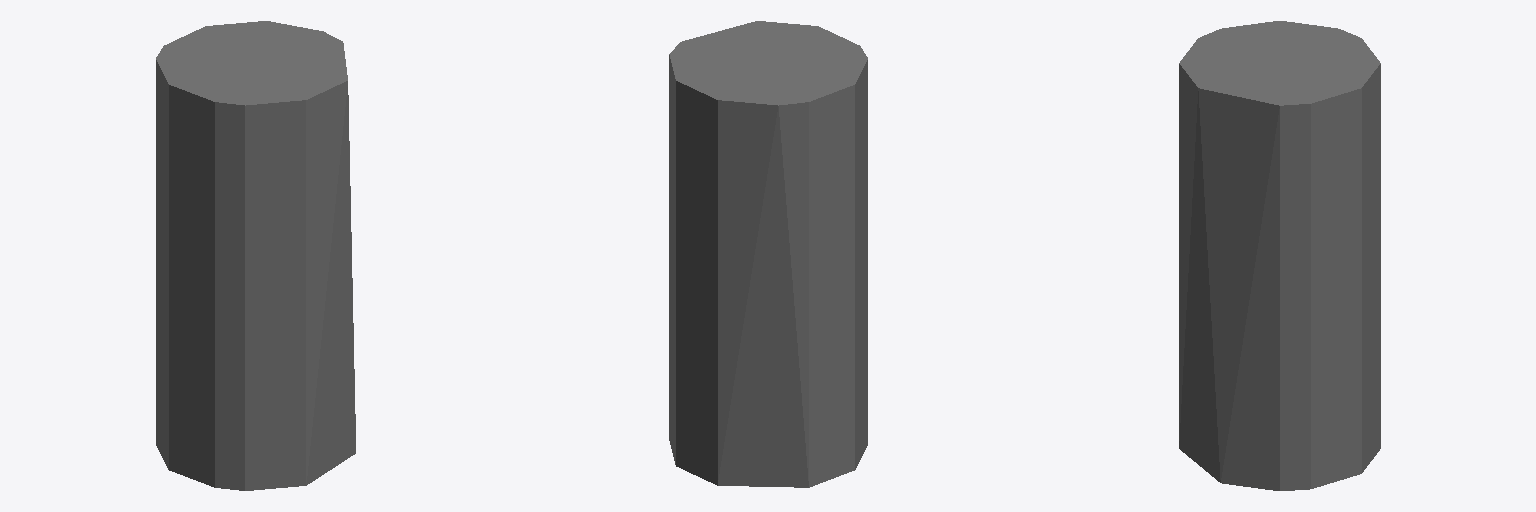
Rendered from tree4.obj.
3 renders of one model, left to right at view 1: azimuth 30°, elevation 25°; view 2: azimuth 150°, elevation 25°; view 3: azimuth 270°, elevation 25°, orthographic.
Parts seen in each view (by area): view 1: tree4:pCylinder1; view 2: tree4:pCylinder1; view 3: tree4:pCylinder1.
Part boxes in pixels (x1,y1,x2,y2): tree4:pCylinder1: (156, 21, 355, 490); tree4:pCylinder1: (669, 21, 867, 487); tree4:pCylinder1: (1179, 21, 1380, 490).
Size of the model in its own units: 0.6671 by 1.41 by 0.6671.